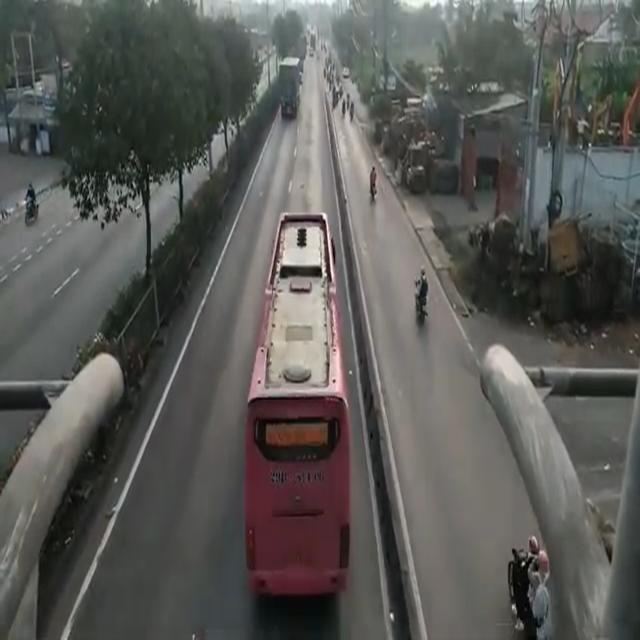bus: (260, 212, 348, 604)
motor: (510, 532, 535, 629), (411, 265, 432, 339)
truck: (278, 54, 302, 120)
